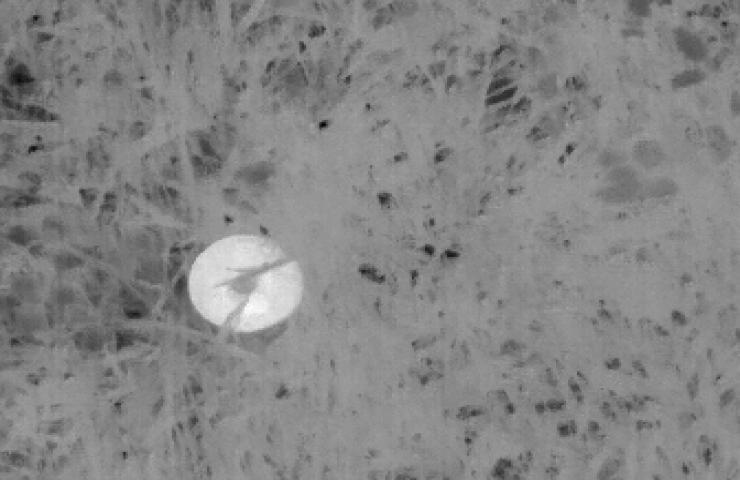landmines: (186, 229, 308, 337)
